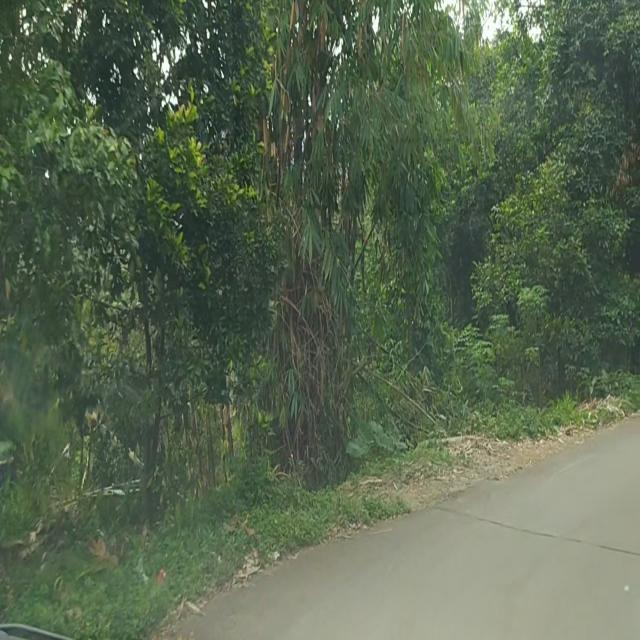Sewer Cover: (447, 508, 640, 559)
